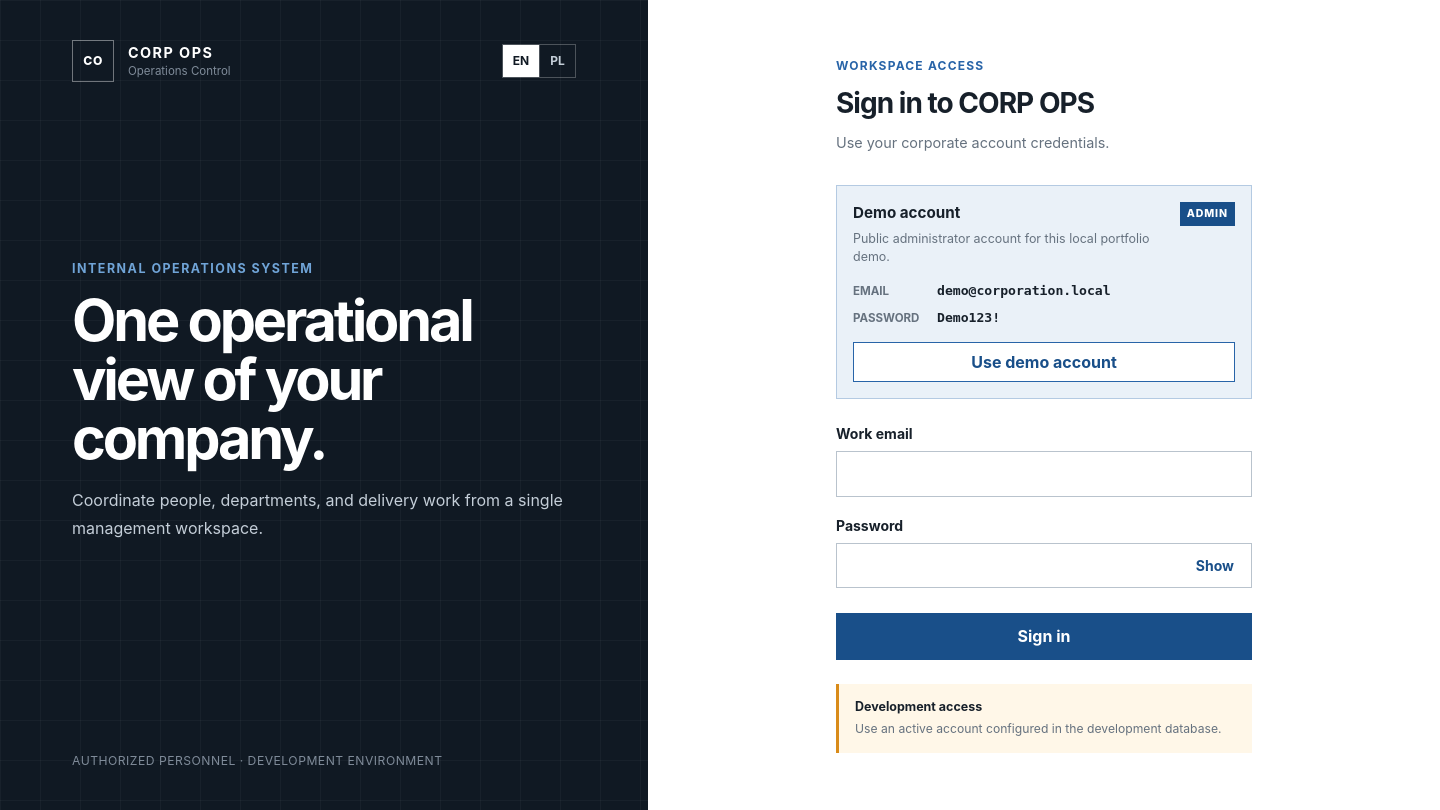
it: LoginPage › shows the public demo administrator and fills the form without submitting
expect the heading "Demo account" is shown: met, box [853,203,960,222]
expect the text "demo@corporation.local" is shown: met, box [937,283,1111,298]
Click the button "Use demo account" at [1044, 362], box [853,342,1235,382]
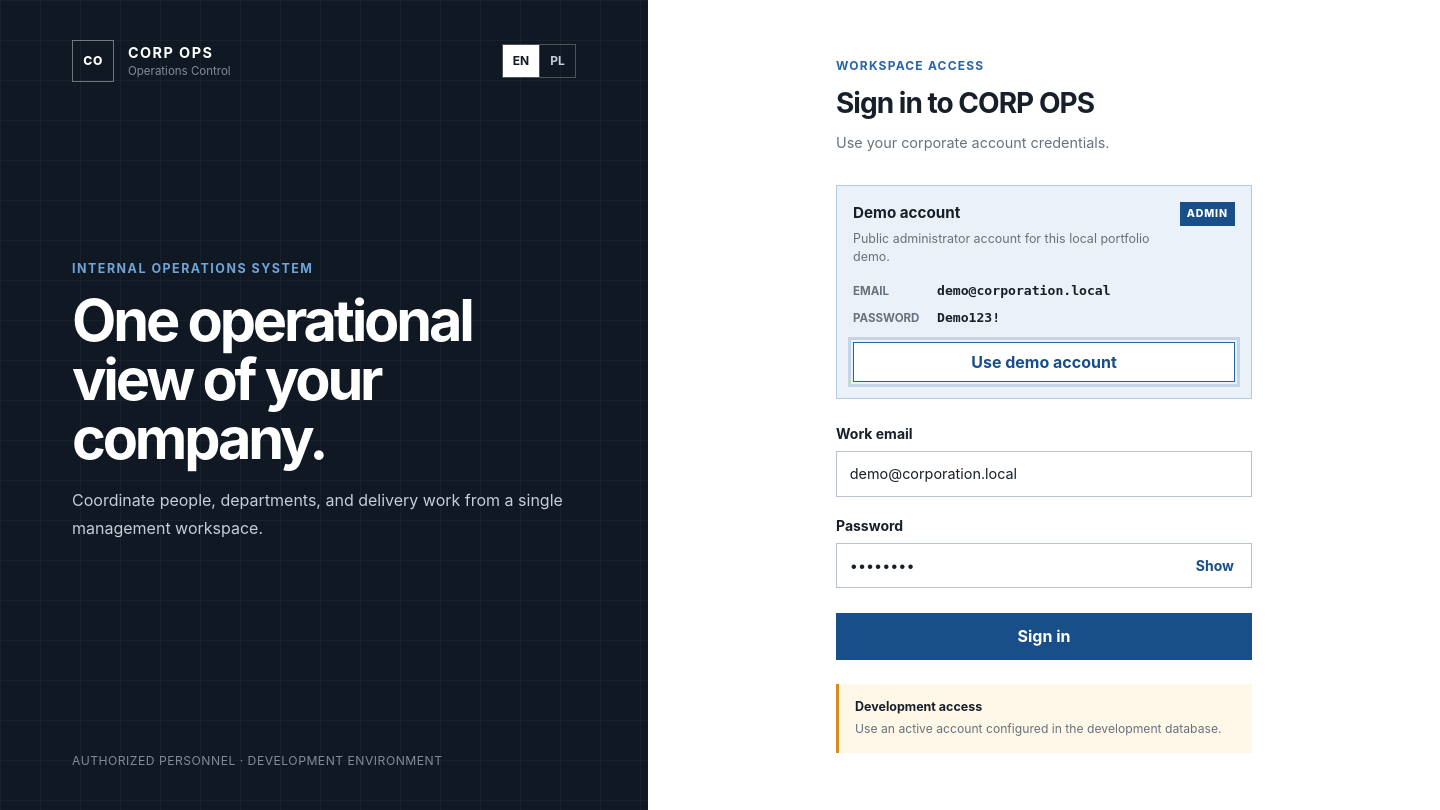
expect the field labelled "Work email" holds "demo@corporation.local": met, box [836,451,1252,497]
expect the password field labelled "Password" holds "Demo123!": met, box [836,542,1252,588]
